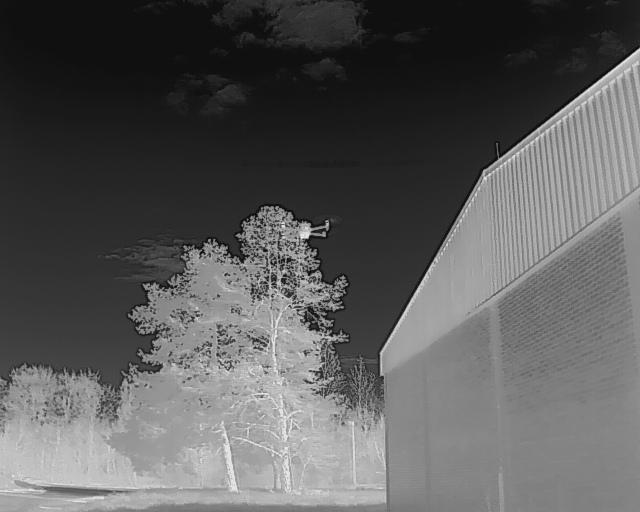drone: (263, 213, 331, 253)
